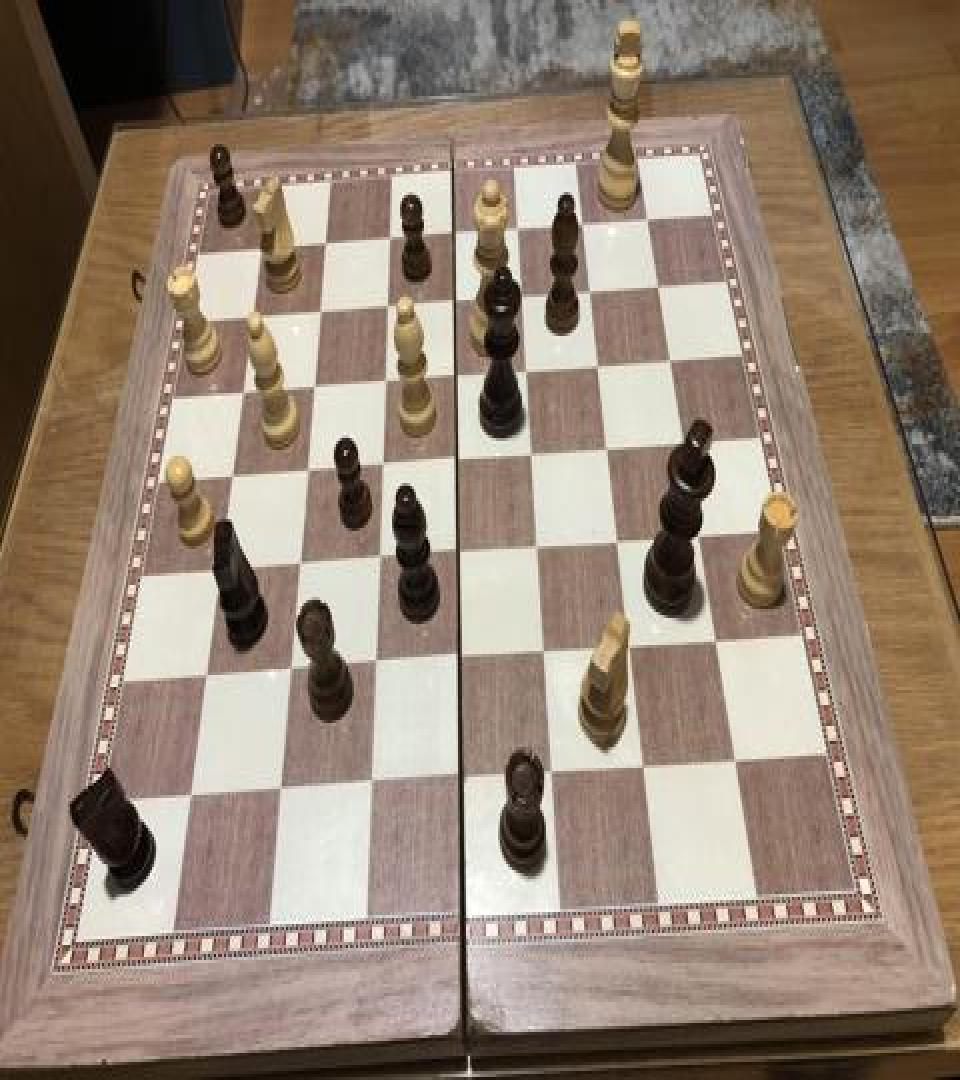xcorner: (533, 640, 557, 677), (448, 646, 472, 683), (723, 748, 747, 785), (631, 754, 655, 791), (636, 204, 660, 240), (570, 208, 594, 244), (441, 219, 465, 255), (376, 224, 400, 260), (312, 228, 336, 264), (248, 234, 272, 270), (646, 272, 670, 308), (578, 278, 602, 314), (510, 282, 534, 318), (442, 286, 466, 322), (374, 292, 398, 328), (307, 297, 331, 333), (240, 303, 264, 339), (658, 346, 682, 382), (586, 352, 610, 388), (515, 357, 539, 393), (443, 363, 467, 399), (372, 368, 396, 404), (301, 374, 325, 410), (230, 378, 254, 414), (596, 435, 620, 471), (520, 441, 544, 477), (444, 447, 468, 483), (369, 452, 393, 488), (294, 458, 318, 494), (220, 462, 244, 498), (687, 524, 711, 560), (606, 530, 630, 566), (526, 536, 550, 572), (446, 540, 470, 576), (366, 546, 390, 582), (287, 552, 311, 588), (208, 556, 232, 592), (704, 628, 728, 664), (618, 634, 642, 670), (363, 651, 387, 687), (279, 657, 303, 693), (195, 663, 219, 699), (540, 760, 564, 796), (449, 766, 473, 802), (359, 771, 383, 807), (269, 777, 293, 813), (180, 783, 204, 819), (506, 215, 530, 250), (672, 431, 696, 466)
